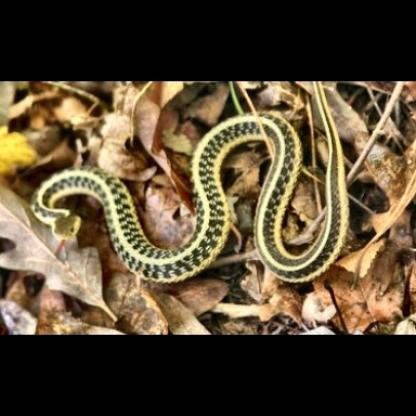Snake: (32, 113, 348, 282)
